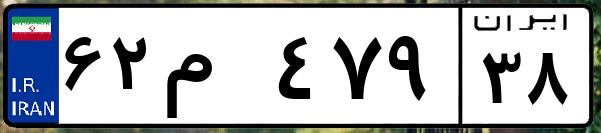2: (110, 28, 158, 98)
3: (475, 38, 525, 113)
4: (270, 28, 330, 110)
6: (57, 26, 110, 100)
7: (330, 28, 385, 110)
8: (525, 38, 570, 115)
9: (385, 28, 445, 110)
م: (158, 20, 270, 120)
